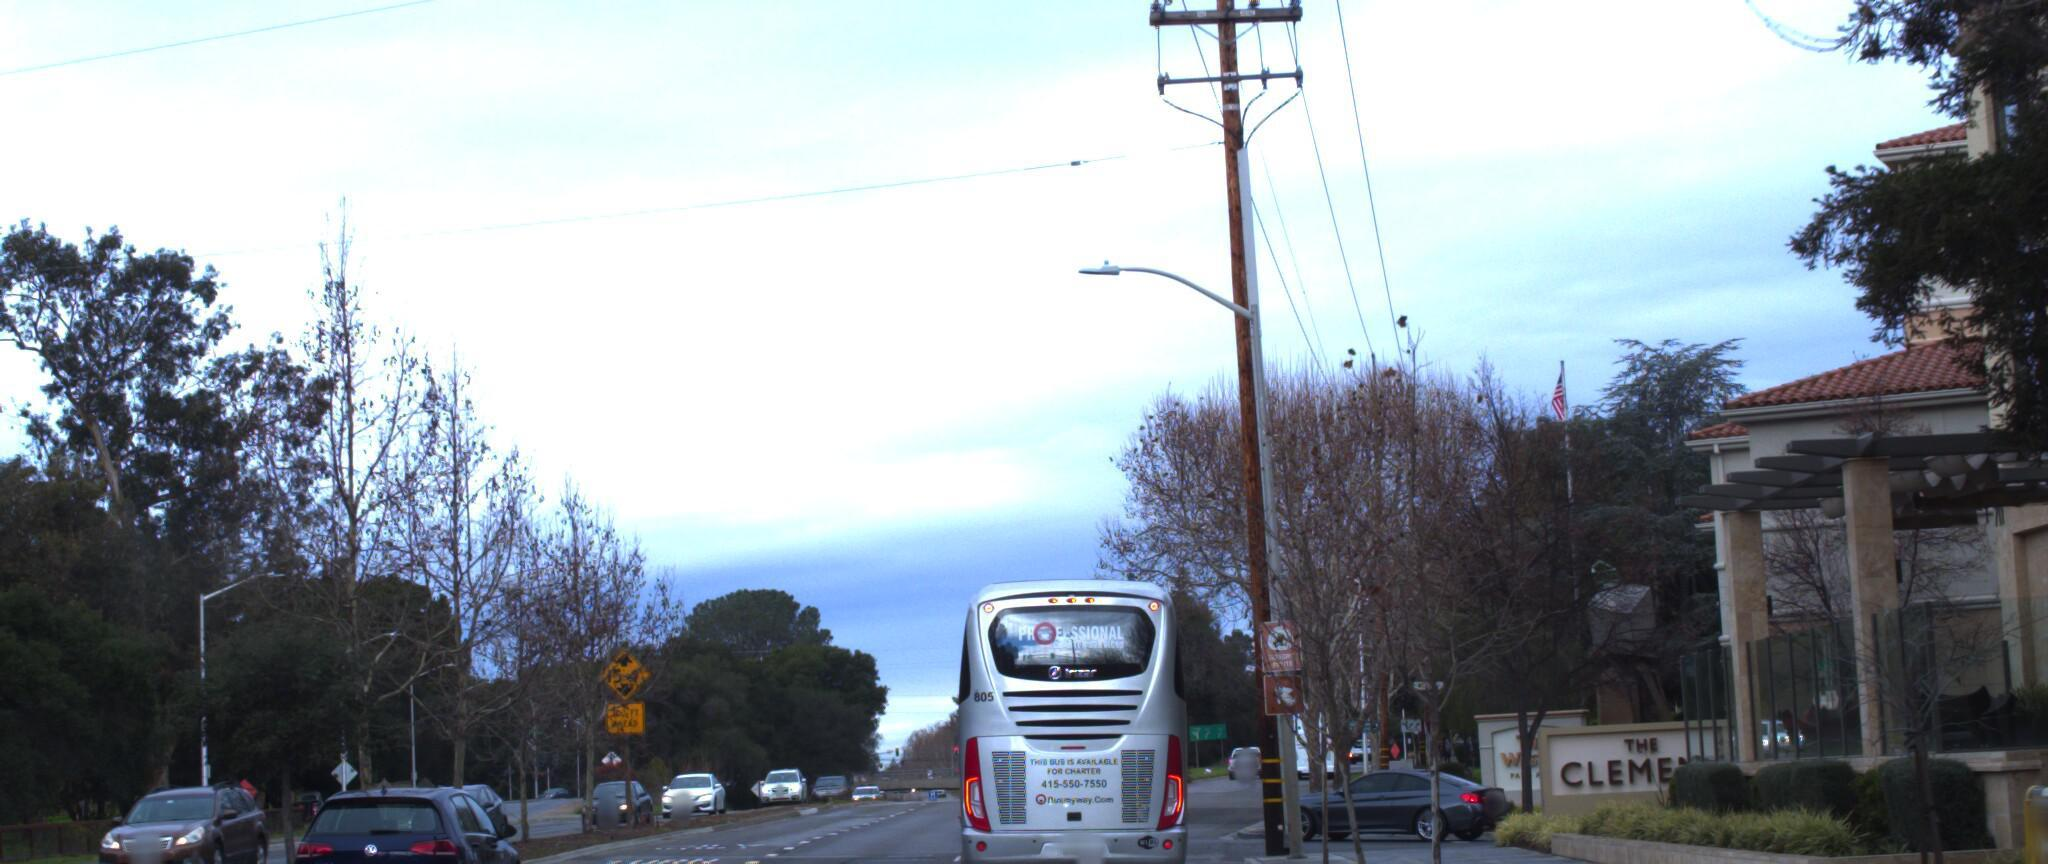bus: (931, 538, 1213, 864)
car: (293, 760, 541, 864), (1250, 740, 1527, 833), (88, 761, 278, 864)
